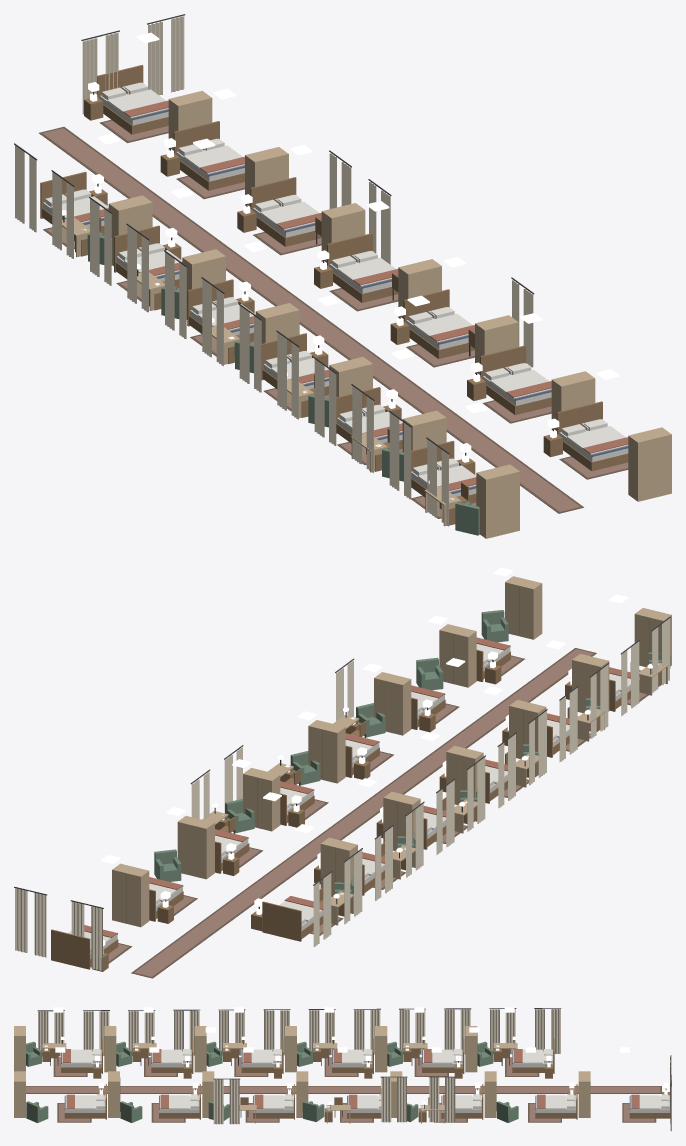
Rendered from fine-s1.glb.
3 views of the same model, one above another, from view 1: azimuth 30°, elevation 25°; view 2: azimuth 150°, elevation 25°; view 3: azimuth 270°, elevation 25° (orthographic). The views are drawn at different scales.
Parts seen in each view (by area): view 1: soft-s1, dresser.012, dresser.005, bed-frame.011, bed-frame.012, bed-frame.006, bed-frame.007, bed-frame.008, bed-frame.009, bed-frame.010, dresser.008, dresser.006 (+15 smaller); view 2: soft-s1, dresser.006, dresser.012, dresser.007, dresser.011, dresser.010, dresser.009, dresser.008, bed-frame.000, bed-frame.006, dresser.000, dresser.004 (+10 smaller); view 3: soft-s1, dresser.006, dresser.007, dresser.001, dresser.003, dresser.004, dresser.011, dresser.000, dresser.012, dresser.002, dresser.005, bed-frame.007 (+26 smaller).
Boxes of the visible parts, box(x1,y1,x2,y2) form: soft-s1: box(14, 14, 628, 526); dresser.012: box(628, 427, 671, 501); dresser.005: box(476, 464, 519, 538); bed-frame.011: box(480, 345, 551, 415); bed-frame.012: box(556, 401, 628, 471); bed-frame.006: box(97, 65, 168, 134); bed-frame.007: box(173, 121, 244, 190); bed-frame.008: box(250, 177, 321, 246); bed-frame.009: box(327, 233, 398, 302); bed-frame.010: box(403, 289, 474, 358); dresser.008: box(321, 203, 365, 262); dresser.006: box(168, 90, 212, 150); soft-s1: box(14, 616, 670, 978); dresser.006: box(112, 863, 149, 927); dresser.012: box(505, 576, 542, 639); dresser.007: box(177, 816, 214, 879); dresser.011: box(439, 624, 476, 687); dresser.010: box(374, 672, 411, 735); dresser.009: box(308, 720, 345, 783); dresser.008: box(243, 768, 280, 831); bed-frame.000: box(262, 901, 323, 941); bed-frame.006: box(51, 929, 118, 969); dresser.000: box(320, 837, 357, 896); dresser.004: box(572, 654, 609, 712); soft-s1: box(26, 1008, 671, 1131); dresser.006: box(578, 1071, 590, 1117); dresser.007: box(484, 1071, 496, 1117); dresser.001: box(375, 1026, 387, 1072); dresser.003: box(194, 1026, 206, 1072); dresser.004: box(104, 1026, 116, 1072); dresser.011: box(108, 1071, 120, 1117); dresser.000: box(465, 1026, 477, 1072); dresser.012: box(14, 1071, 25, 1117); dresser.002: box(285, 1026, 296, 1072); dresser.005: box(14, 1026, 25, 1071); bed-frame.007: box(535, 1084, 577, 1119).
Bounding box in the file's own units: 9.23 × 3.34 × 32.82.
